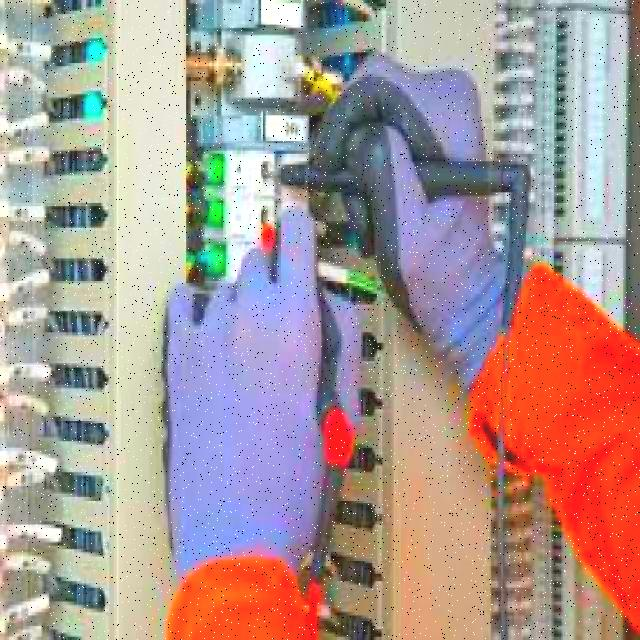Gloves: (165, 211, 348, 587), (314, 36, 516, 361)
